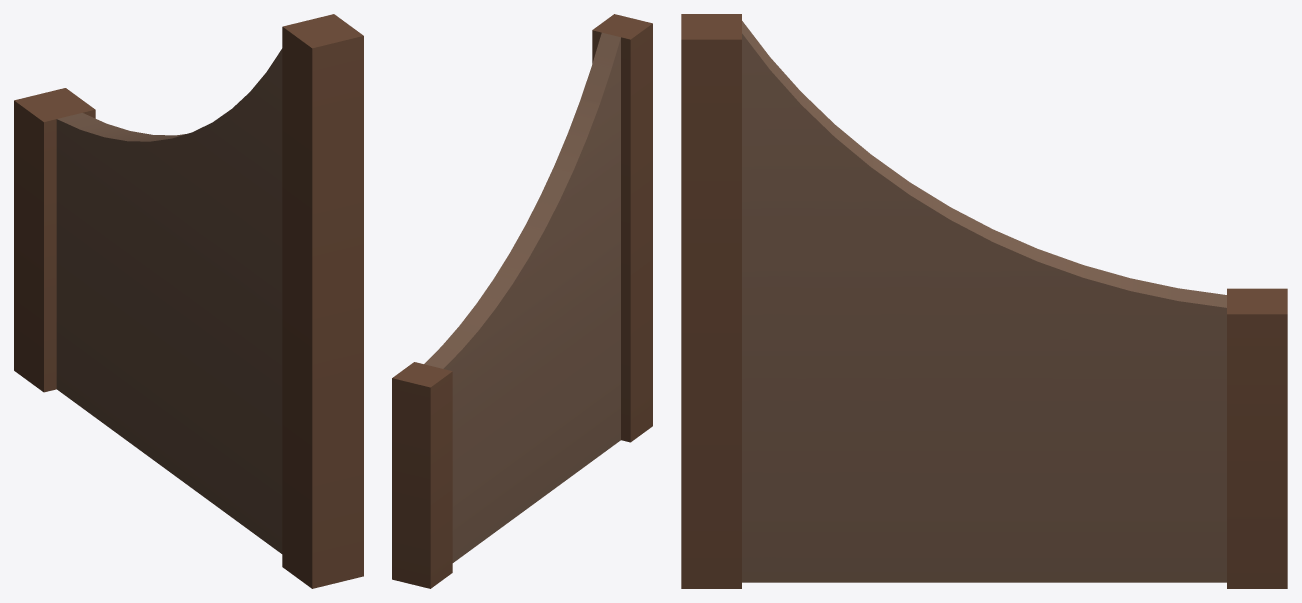
File: wall-wood-slope.glb
The picture shows the model from 3 angles, left to right: view 1: azimuth 30°, elevation 25°; view 2: azimuth 150°, elevation 25°; view 3: azimuth 270°, elevation 25°; orthographic projection. The views are drawn at different scales.
Visible parts, largest first — view 1: wall-wood-slope; view 2: wall-wood-slope; view 3: wall-wood-slope.
Part boxes in pixels (bbox=[...]): wall-wood-slope: bbox=[14, 14, 363, 588]; wall-wood-slope: bbox=[392, 14, 652, 588]; wall-wood-slope: bbox=[681, 14, 1287, 588].
Bounding box in the file's own units: 0.1 × 1 × 1.
1 material, 1 textured.
